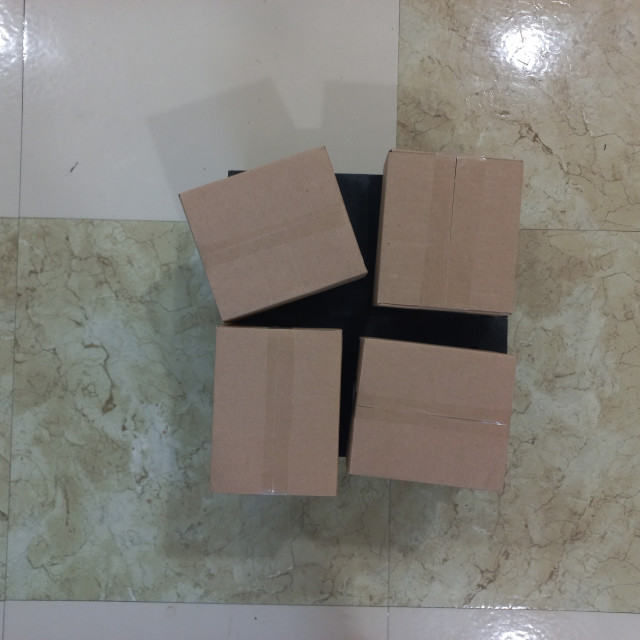box: (177, 139, 371, 323), (344, 332, 521, 496), (370, 145, 527, 319), (283, 315, 428, 498), (208, 320, 347, 501), (170, 146, 300, 307), (165, 320, 281, 495), (301, 139, 405, 319)
